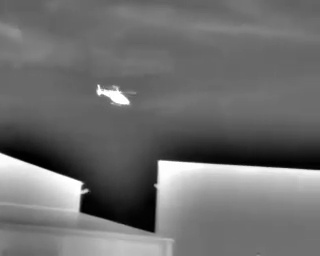HELICOPTER: (93, 76, 142, 114)
